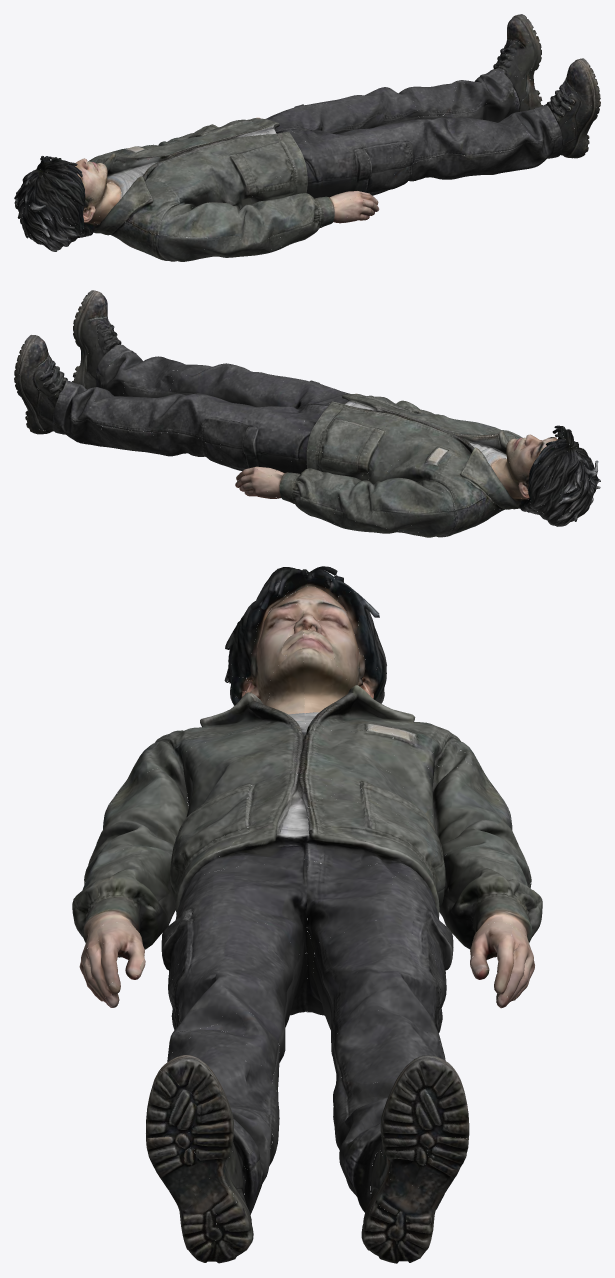
The model's file is shen.glb.
The picture shows the model from 3 angles, top to bottom: view 1: azimuth 30°, elevation 25°; view 2: azimuth 150°, elevation 25°; view 3: azimuth 270°, elevation 25°; orthographic projection. The views are drawn at different scales.
Visible parts, largest first — view 1: tripo_node_2492cb69-17fe-4fe1-9226-7779baea1c7a; view 2: tripo_node_2492cb69-17fe-4fe1-9226-7779baea1c7a; view 3: tripo_node_2492cb69-17fe-4fe1-9226-7779baea1c7a.
Boxes of the visible parts, <box> form: tripo_node_2492cb69-17fe-4fe1-9226-7779baea1c7a: <box>14,14,600,261</box>; tripo_node_2492cb69-17fe-4fe1-9226-7779baea1c7a: <box>14,290,600,537</box>; tripo_node_2492cb69-17fe-4fe1-9226-7779baea1c7a: <box>72,566,542,1263</box>.
Size of the model in its own units: 0.9785 by 0.1939 by 0.3689.
1 material, 1 textured.
